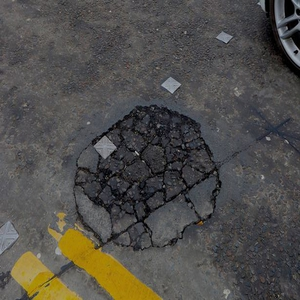pothole: (73, 104, 222, 253)
